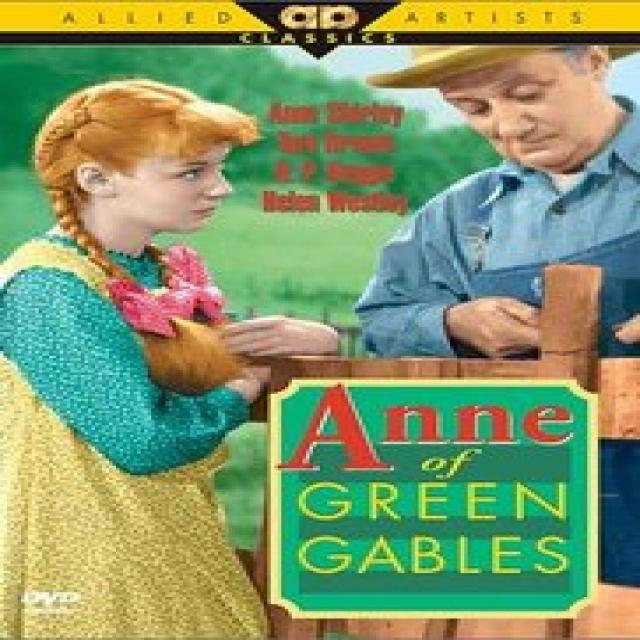movie-judul: (280, 380, 589, 608)
picture: (5, 77, 338, 640), (366, 46, 640, 359)
